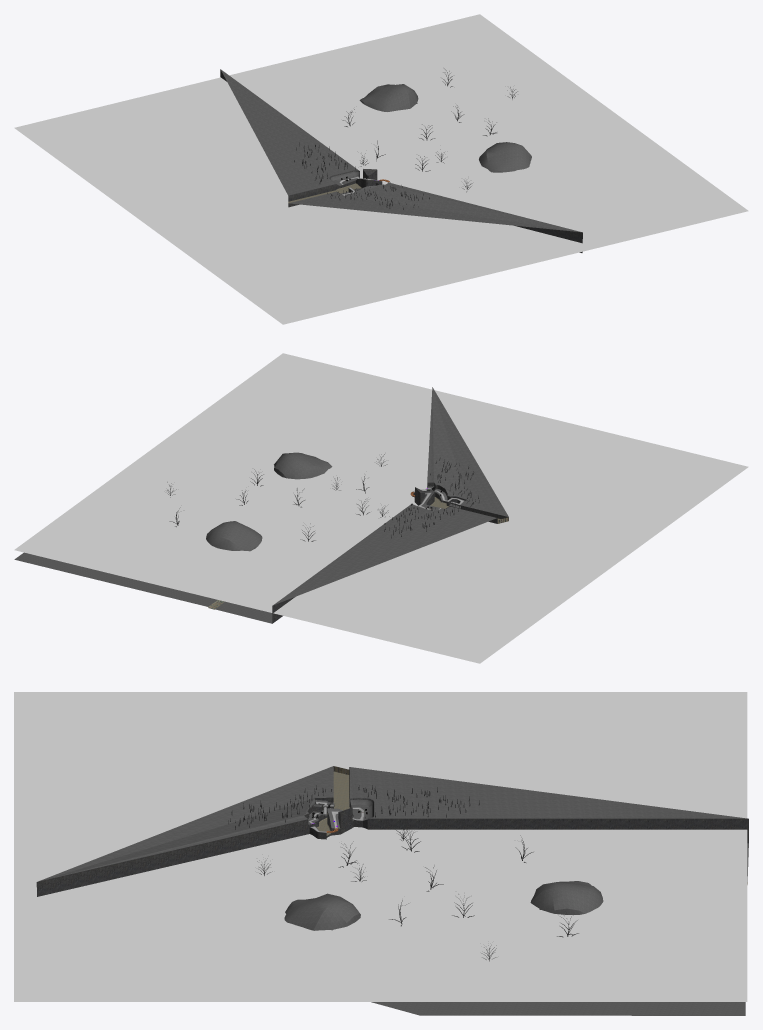
3 views of the same model, one above another, from view 1: azimuth 30°, elevation 25°; view 2: azimuth 150°, elevation 25°; view 3: azimuth 270°, elevation 25° (orthographic). The views are drawn at different scales.
Parts seen in each view (by area): view 1: mist.002, grass.043, cliff.010, trunk.003; view 2: mist.002, grass.043, trunk.003, cliff.010; view 3: mist.002, grass.043, cliff.010, trunk.003, gravel.002.
Part boxes in pixels (x1=…): mist.002: x1=14, y1=14, x2=748, y2=324; grass.043: x1=220, y1=69, x2=582, y2=252; cliff.010: x1=220, y1=69, x2=582, y2=252; trunk.003: x1=294, y1=68, x2=517, y2=209; mist.002: x1=14, y1=353, x2=748, y2=663; grass.043: x1=14, y1=387, x2=508, y2=623; trunk.003: x1=167, y1=454, x2=479, y2=541; cliff.010: x1=272, y1=482, x2=508, y2=623; mist.002: x1=14, y1=692, x2=747, y2=1001; grass.043: x1=38, y1=766, x2=748, y2=1015; cliff.010: x1=36, y1=767, x2=748, y2=896; trunk.003: x1=228, y1=785, x2=578, y2=961; gravel.002: x1=317, y1=766, x2=747, y2=884.
Bounding box in the file's own units: 604172 × 38406 × 605139.
Materials: 14 (14 with a texture image).
